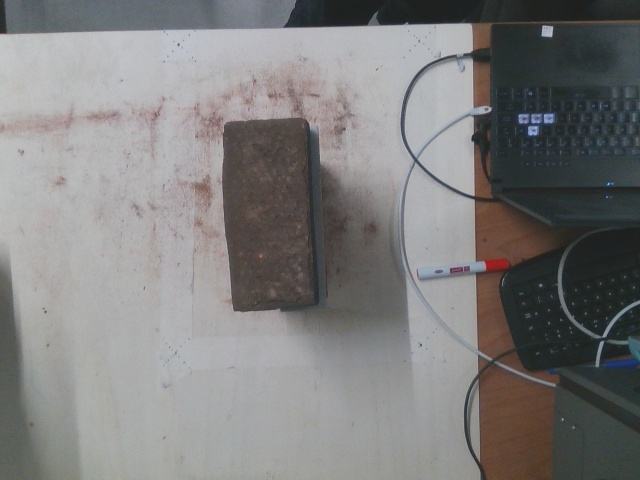brick: (227, 119, 306, 310)
